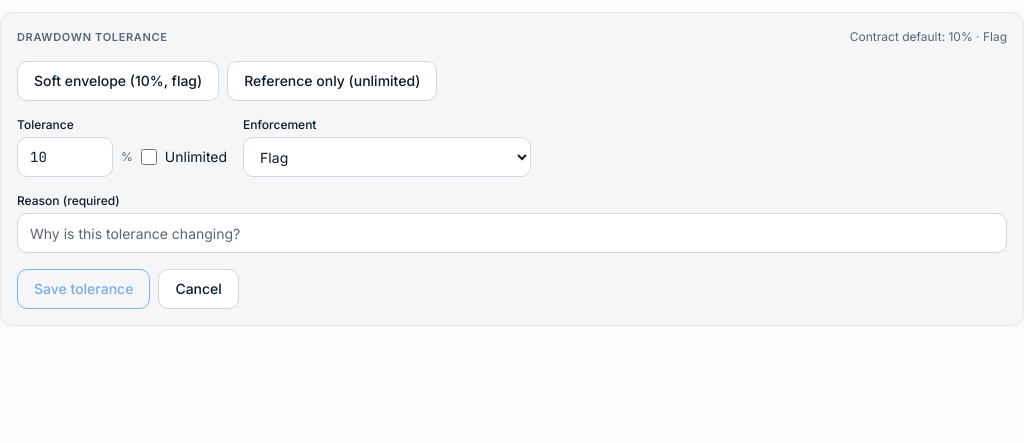
PolicyEditor — the tolerance input is text, so the default locale can express a decimal › THE SILENCE, BROKEN — a refused tolerance now says why instead of only disabling Save
Replace the text in the field labelled "Tolerance" with "1.500": (65, 157) [17, 137, 113, 177]
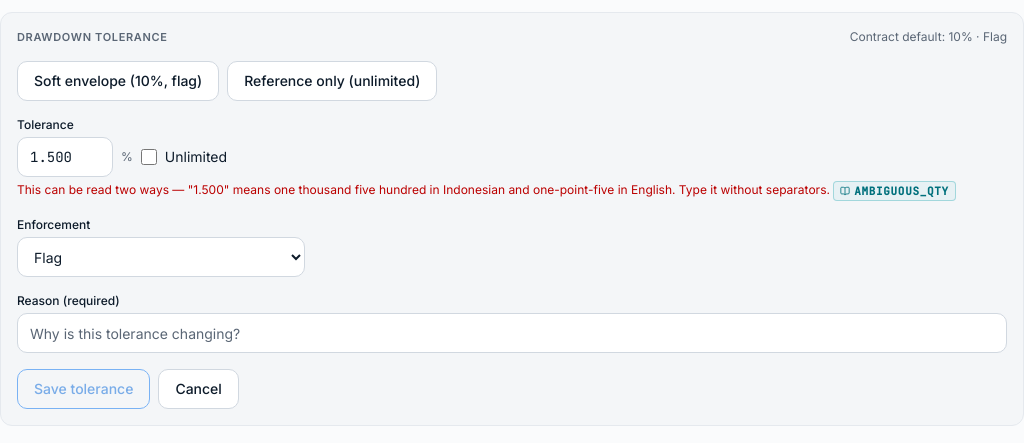
Expected: the message with test id "policy-pct-refusal" shows "can be read two ways", [17, 182, 830, 197]
